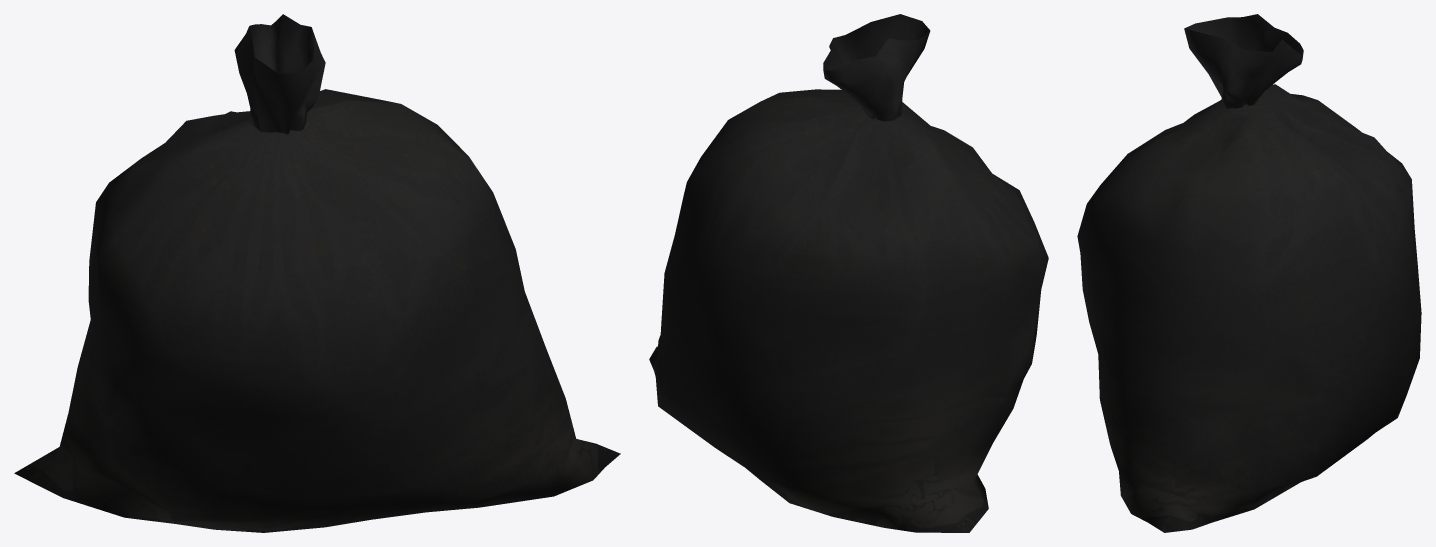
File: Trash_Bag.fbx
3 renders of one model, left to right at view 1: azimuth 30°, elevation 25°; view 2: azimuth 150°, elevation 25°; view 3: azimuth 270°, elevation 25°, orthographic. The views are drawn at different scales.
Parts seen in each view (by area): view 1: Trash_Bag; view 2: Trash_Bag; view 3: Trash_Bag.
Part boxes in pixels (x1,y1,x2,y2): Trash_Bag: (14,14,620,532); Trash_Bag: (649,14,1048,532); Trash_Bag: (1077,14,1421,532).
Size of the model in its own units: 7566 by 7098 by 5590.
